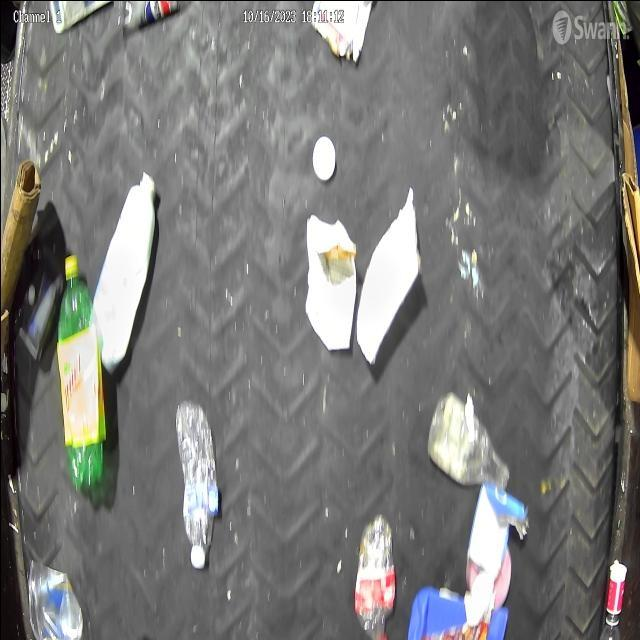plastic_bottle: (173, 399, 220, 572), (352, 512, 396, 640)
